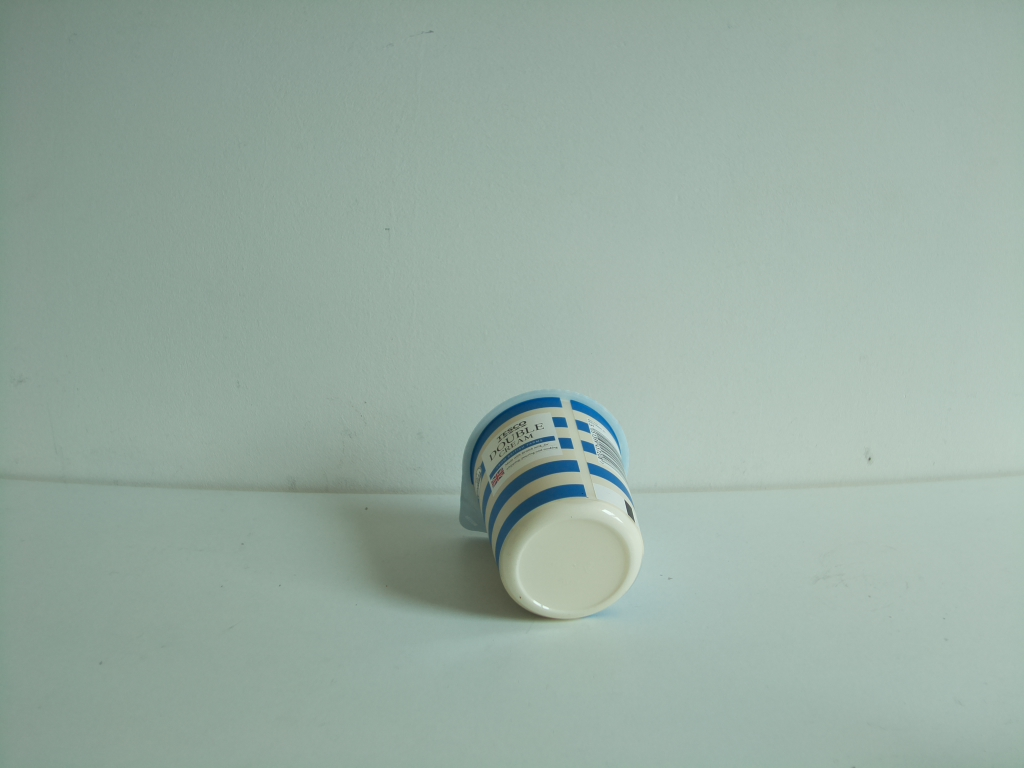cream: (459, 391, 649, 619)
